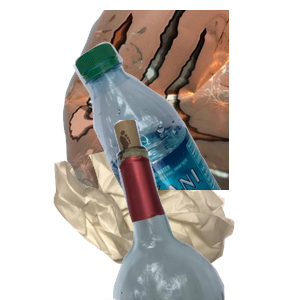glass: (89, 120, 300, 300)
metal: (60, 10, 300, 190)
plastic: (71, 39, 300, 219)
trash: (51, 142, 278, 300)
